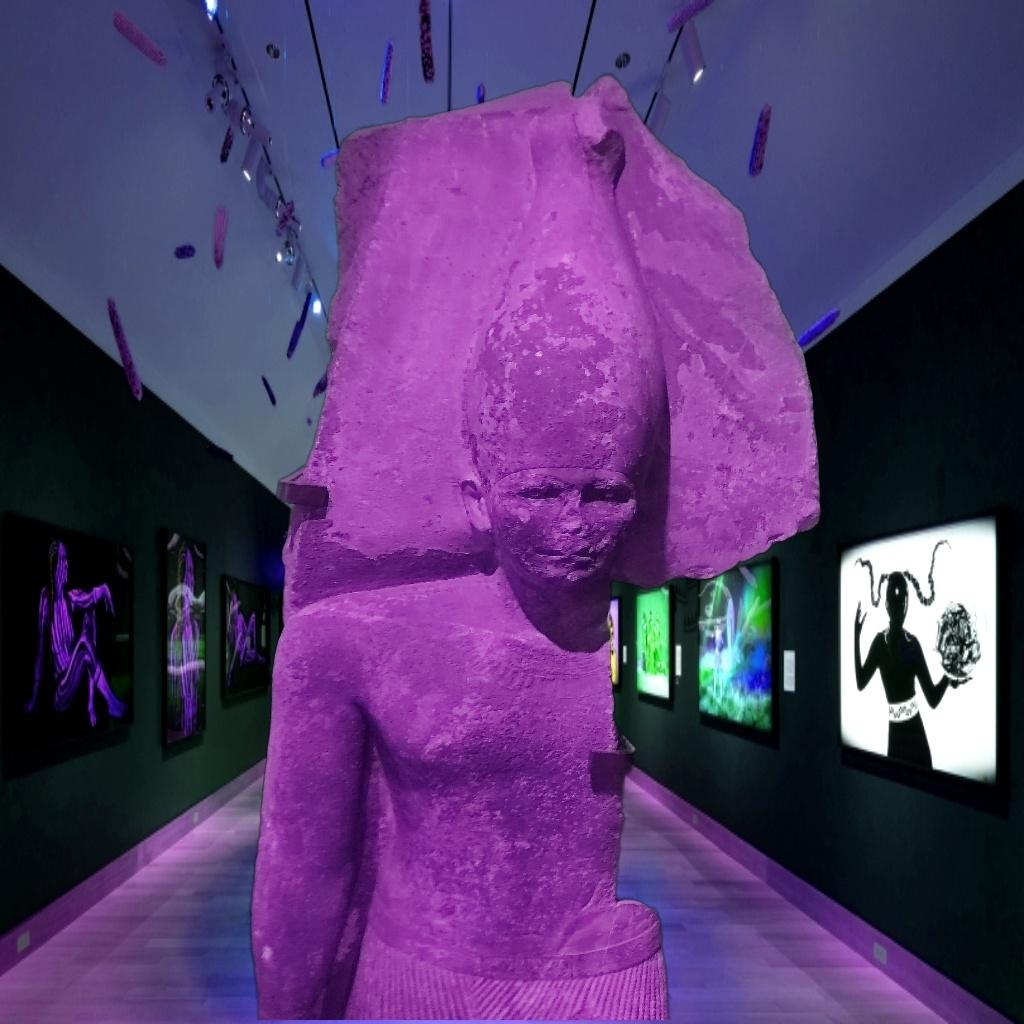Statue of Snefru: (242, 72, 826, 1020)
